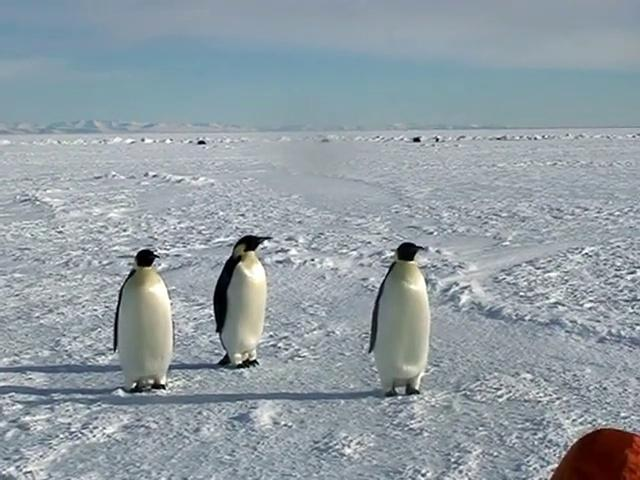animal: (370, 244, 430, 397)
